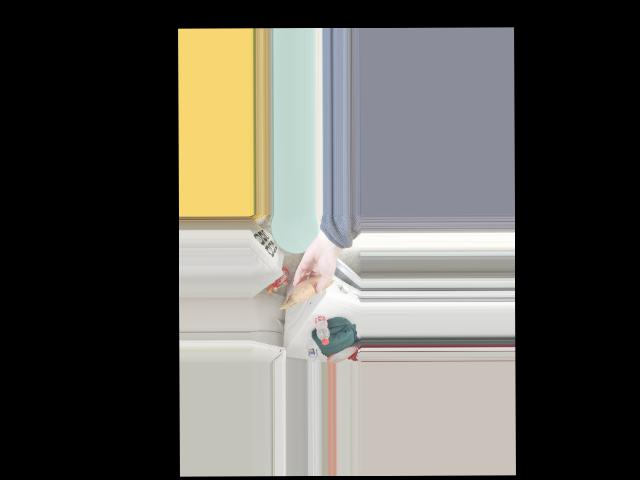sweet_potato: (295, 272, 327, 301)
